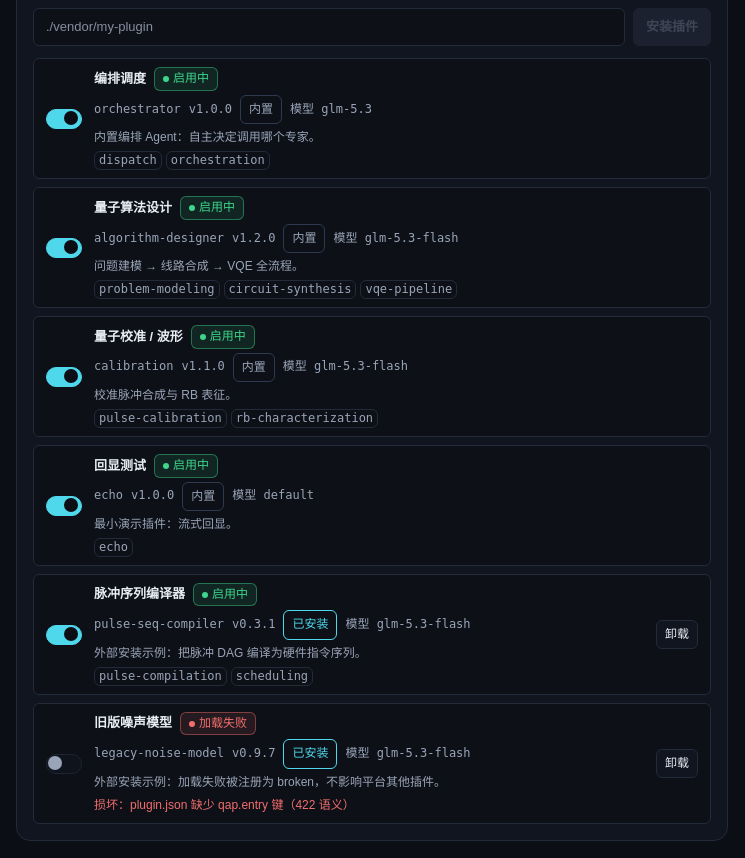
Test: 设置页权限与插件状态（v1.2/v1.3） › 插件卡状态徽标三态：启用中(success)/已停用(faint)/加载失败(danger+原因)
(page scrolled)
Check: the element with test id "plugin-status-echo" reads "启用中", box x1=173 y1=458 x2=209 y2=472
Check: the element with test id "plugin-status-legacy-noise-model" reads "加载失败", box x1=199 y1=716 x2=247 y2=730
Note: 关闭 echo → 刷新后「已停用」
Click the switch with test id "plugin-toggle-echo" at (64, 506), box x1=46 y1=496 x2=82 y2=516
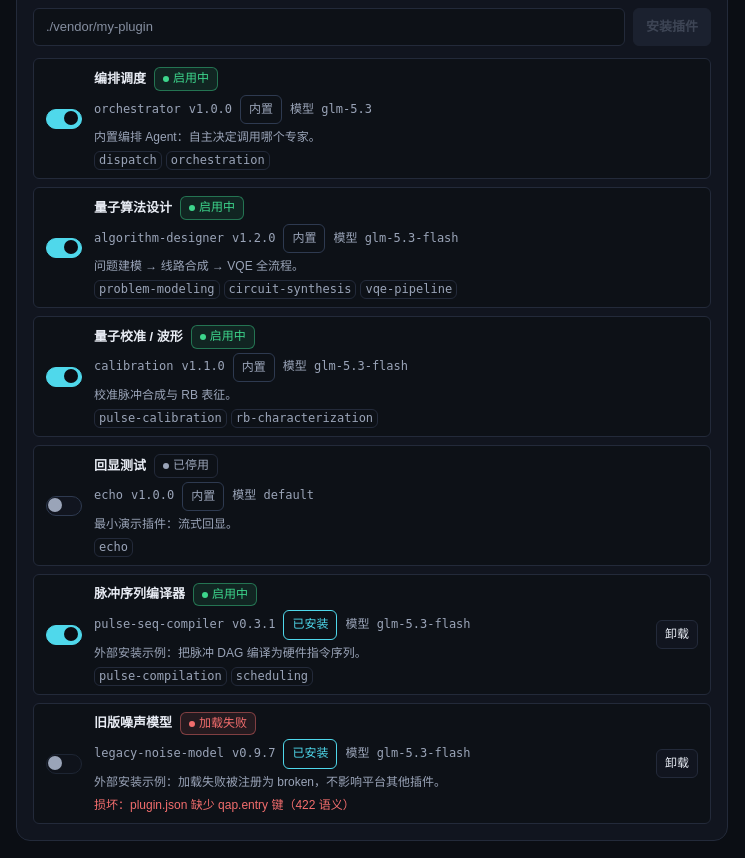
Check: the element with test id "plugin-status-echo" reads "已停用", box x1=173 y1=458 x2=209 y2=472
